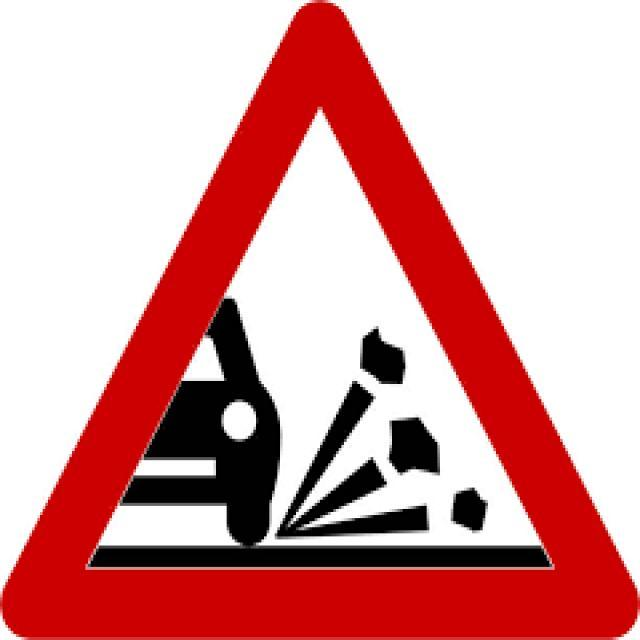loose gravel: (23, 28, 617, 617)
